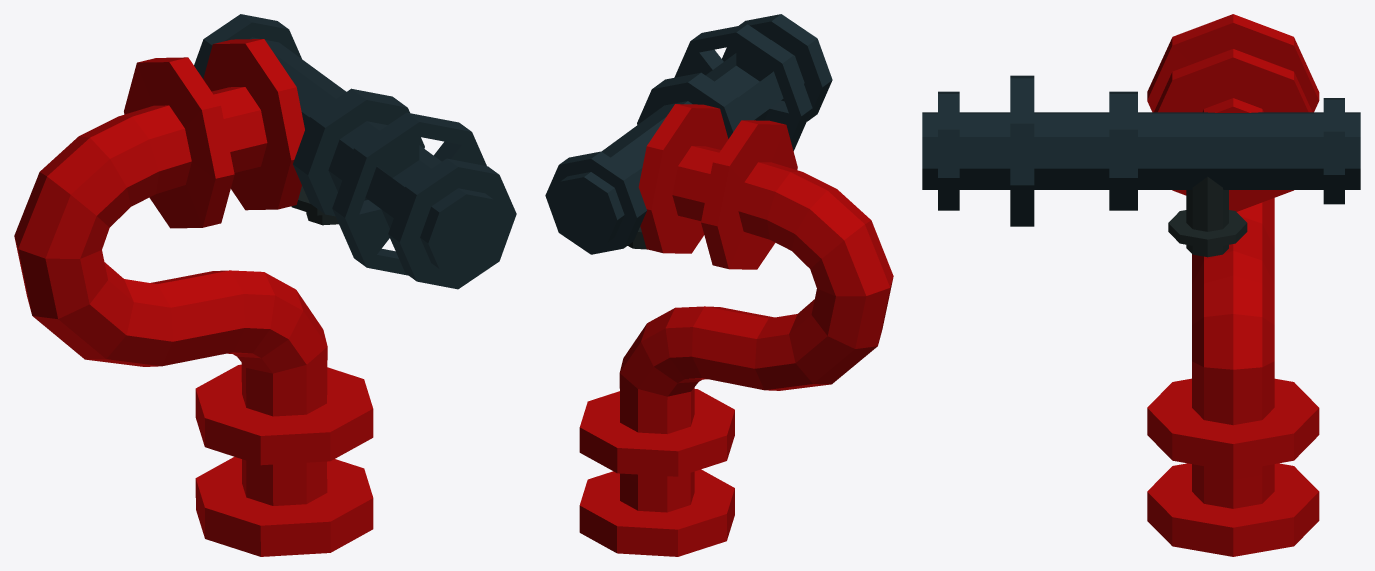
File: Pump.FBX
The picture shows the model from 3 angles, left to right: view 1: azimuth 30°, elevation 25°; view 2: azimuth 150°, elevation 25°; view 3: azimuth 270°, elevation 25°; orthographic projection. The views are drawn at different scales.
Visible parts, largest first — view 1: Pump_Part_001, Pump_Part_002; view 2: Pump_Part_001, Pump_Part_002; view 3: Pump_Part_001, Pump_Part_002.
Boxes of the visible parts, bbox=[...] form: Pump_Part_001: bbox=[14, 39, 373, 556]; Pump_Part_002: bbox=[194, 14, 516, 289]; Pump_Part_001: bbox=[579, 104, 893, 556]; Pump_Part_002: bbox=[545, 14, 832, 254]; Pump_Part_001: bbox=[1147, 14, 1319, 556]; Pump_Part_002: bbox=[922, 75, 1360, 257].
Size of the model in its own units: 19.45 by 25.31 by 22.12.
